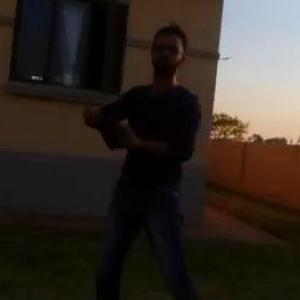follow: (75, 17, 215, 299)
